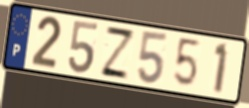1: (212, 42, 230, 97)
2: (29, 15, 64, 72)
5: (136, 30, 170, 87), (66, 19, 100, 75), (172, 37, 201, 91)
Z: (98, 24, 137, 82)
